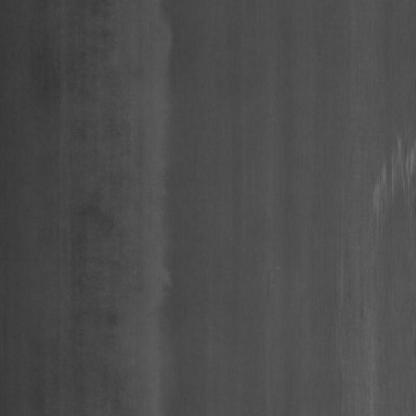silk_spot: (368, 119, 416, 242)
